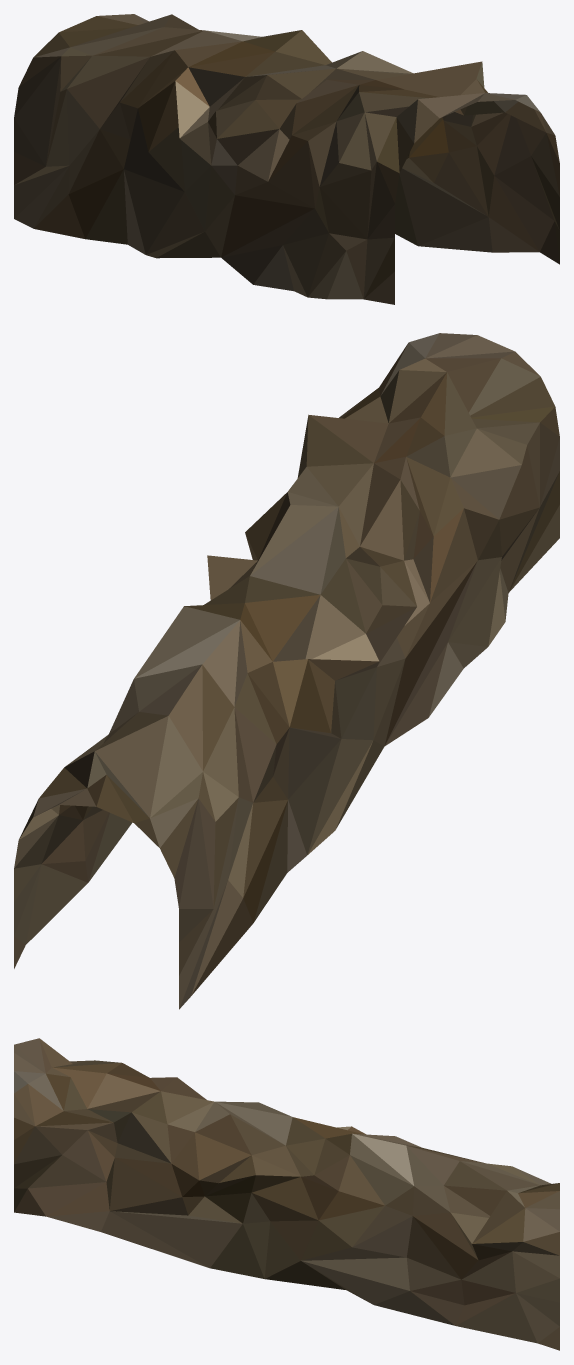
The model's file is Cave-Slope20mB.fbx.
3 views of the same model, one above another, from view 1: azimuth 30°, elevation 25°; view 2: azimuth 150°, elevation 25°; view 3: azimuth 270°, elevation 25° (orthographic). The views are drawn at different scales.
Parts seen in each view (by area): view 1: Cave-Slope20mB; view 2: Cave-Slope20mB; view 3: Cave-Slope20mB.
Boxes of the visible parts, x1,y1,x2,y2 form: Cave-Slope20mB: (14, 14, 559, 304); Cave-Slope20mB: (14, 333, 559, 1009); Cave-Slope20mB: (14, 1038, 559, 1350).
Bounding box in the file's own units: 616 × 1088 × 2000.
